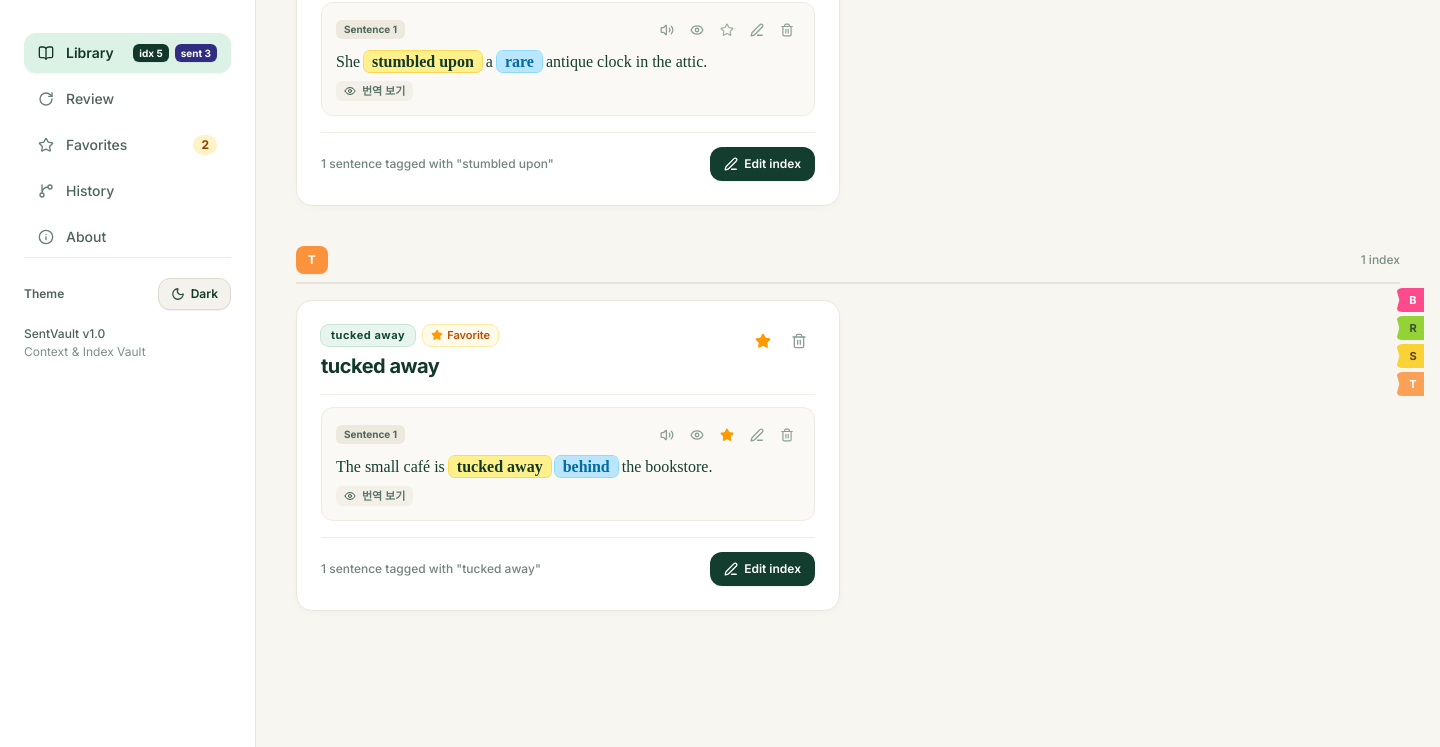
Test: Sentence Note - Multi-Index Management › renders sentence with highlighted phrase and correct count
The width and height of the screenshot is (1440, 747).
(page scrolled)
Click the 2nd button "Edit index": {"x": 763, "y": 569} [710, 552, 815, 586]
(page scrolled)
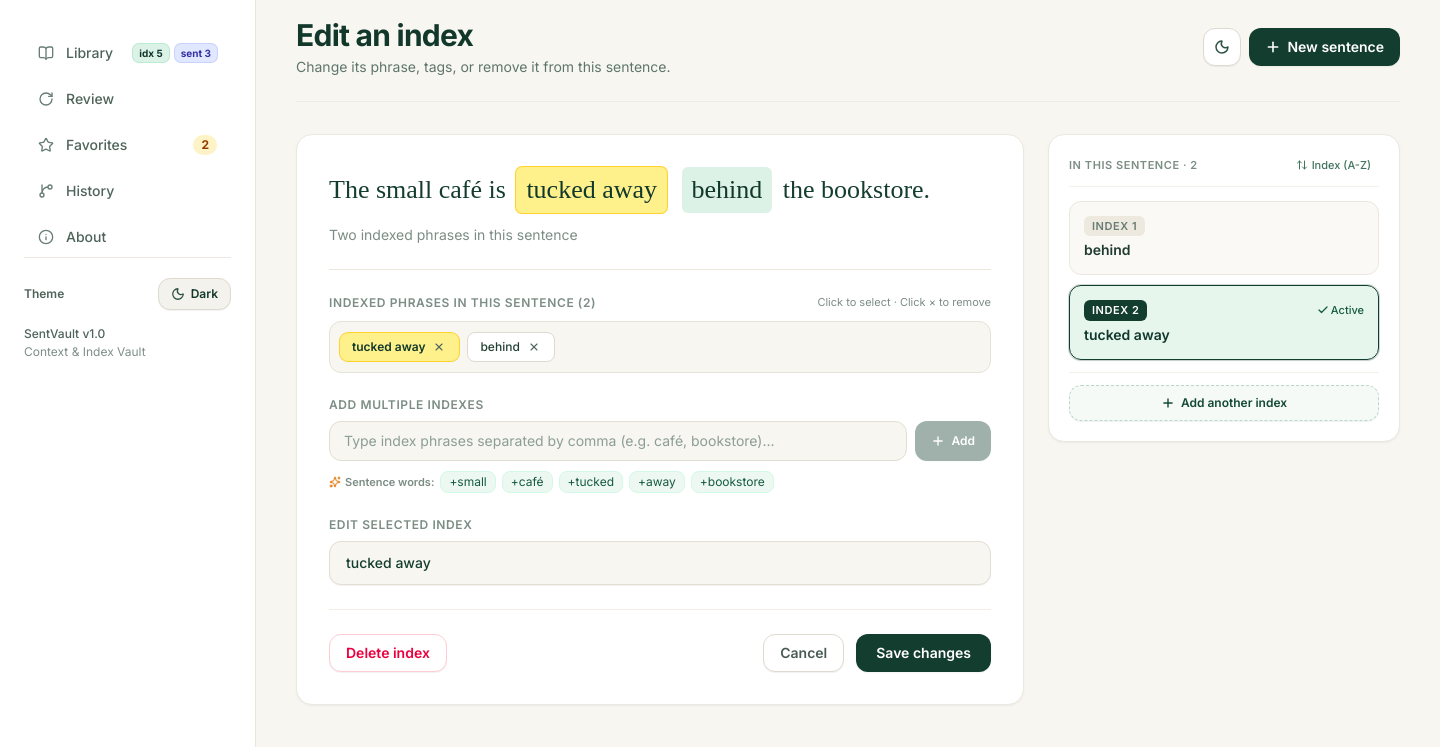
Check: the text "The small café is" is shown, box [329, 175, 512, 204]
Check: the text "Two indexed phrases in this sentence" is shown, box [329, 226, 578, 243]
